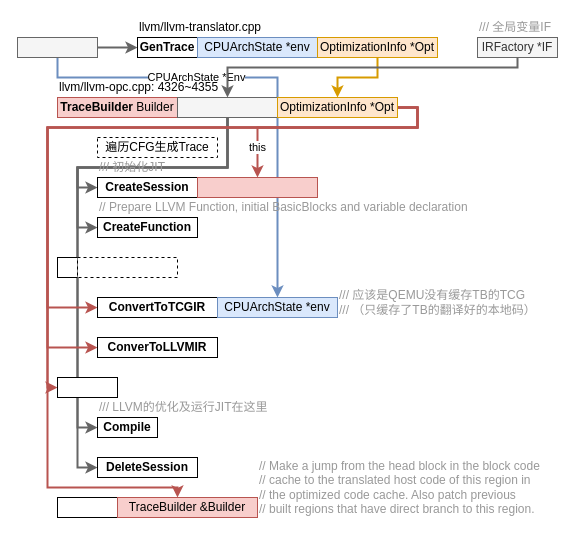
This 585x535 diagram has some shape labels left out. The shapes that lost their labels are listed below. From the top down, each one's centre as x and y in pixels, then its label:
At pixel 57 47: "某个translator".
At pixel 227 107: "IRFactory *IRF".
At pixel 257 187: "TraceBuilder *builder".
At pixel 67 267: "for".
At pixel 127 267: "each GraphNode".
At pixel 87 387: "Finalize".
At pixel 87 507: "Commit".
